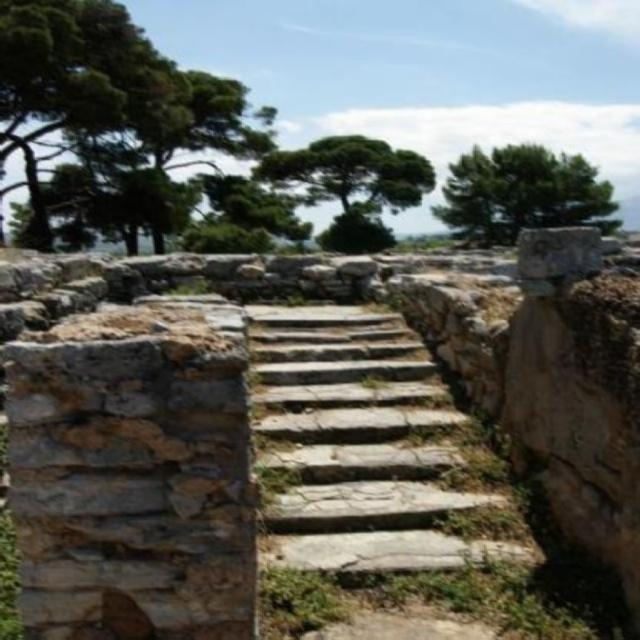stair: (252, 312, 552, 638)
